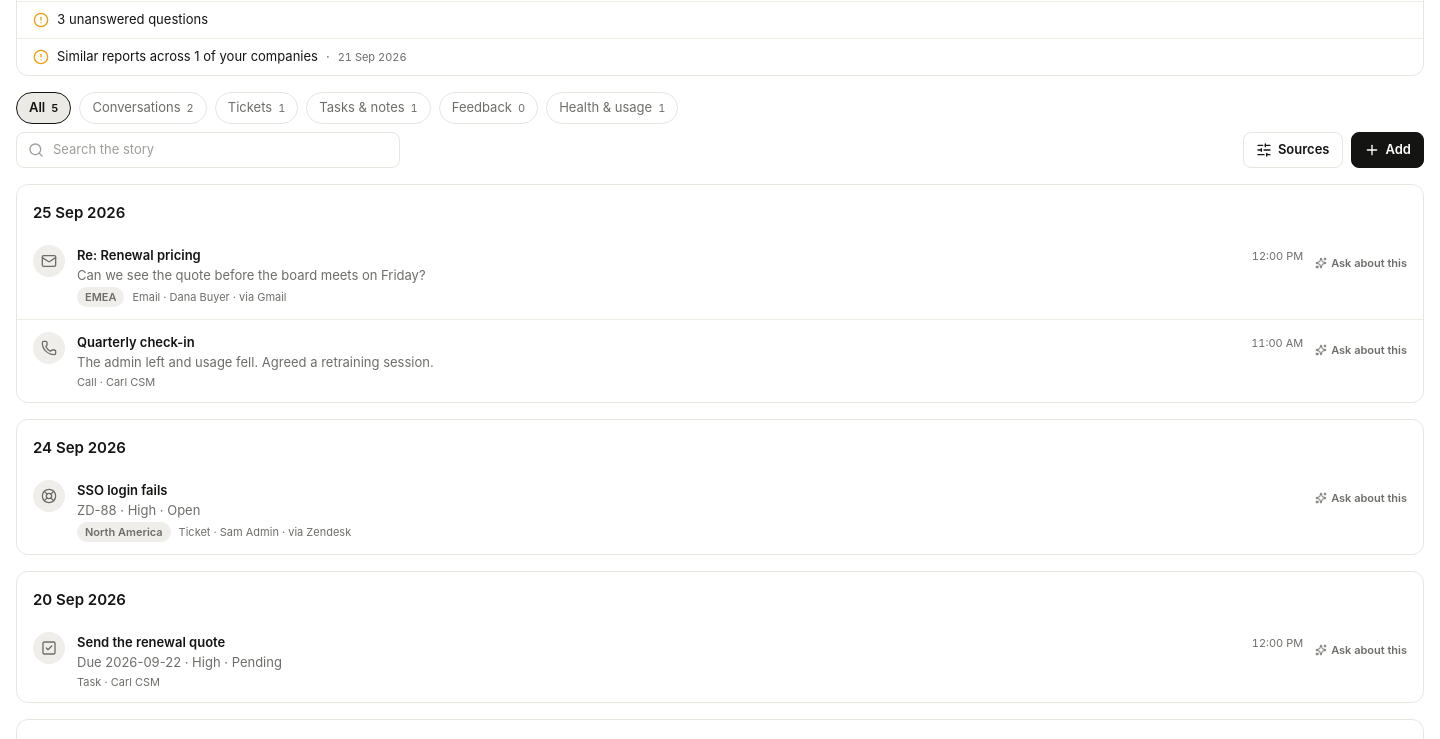
Test: Ask about this › opens the sheet on phones, prefilled
(page scrolled)
Click the button with aria-label "Ask about this: Quarterly check-in": point(1361, 350) top-left (1315, 332), bottom-right (1407, 368)
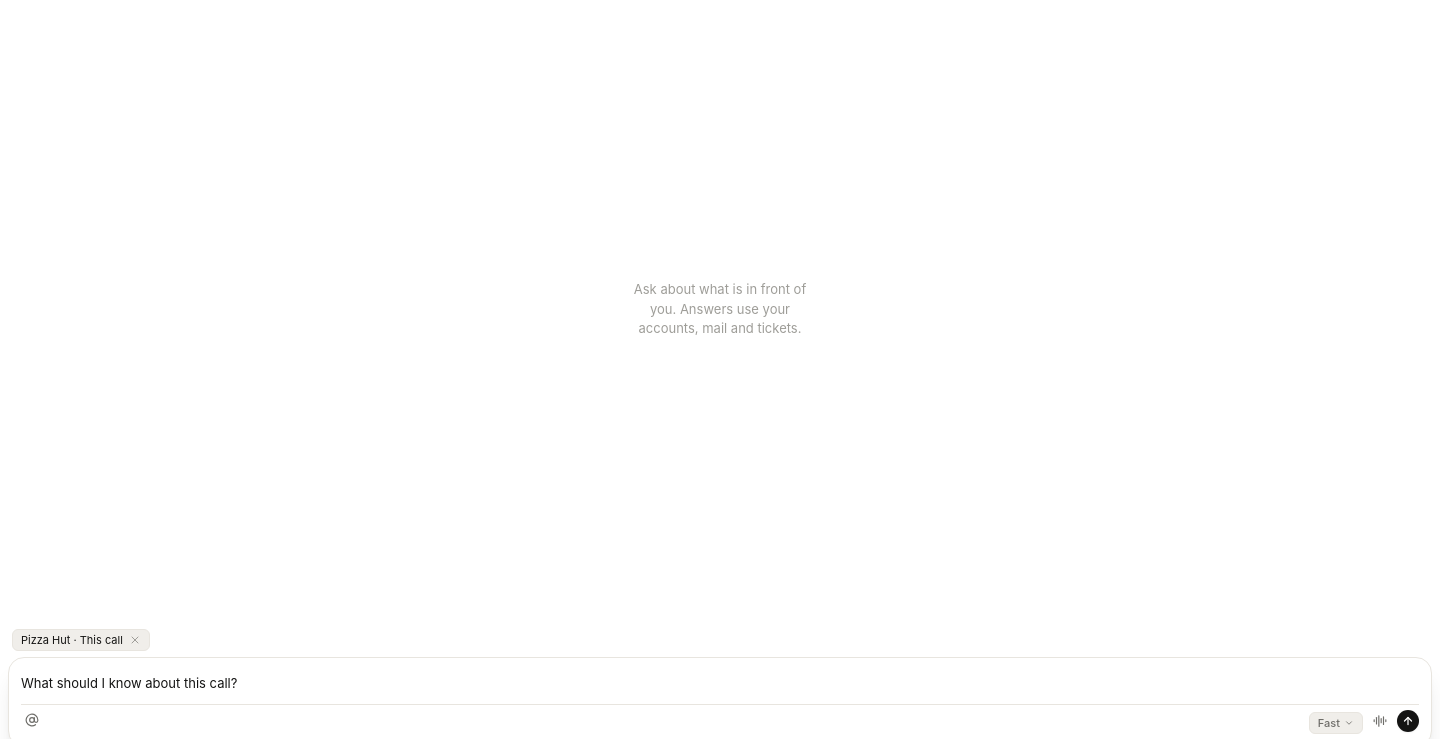
Result: the text "Pizza Hut · This call" is shown at top-left (12, 628), bottom-right (150, 651)
Result: the field with placeholder "Ask Revenact" holds "What should I know about this call?" at top-left (21, 672), bottom-right (1419, 696)
